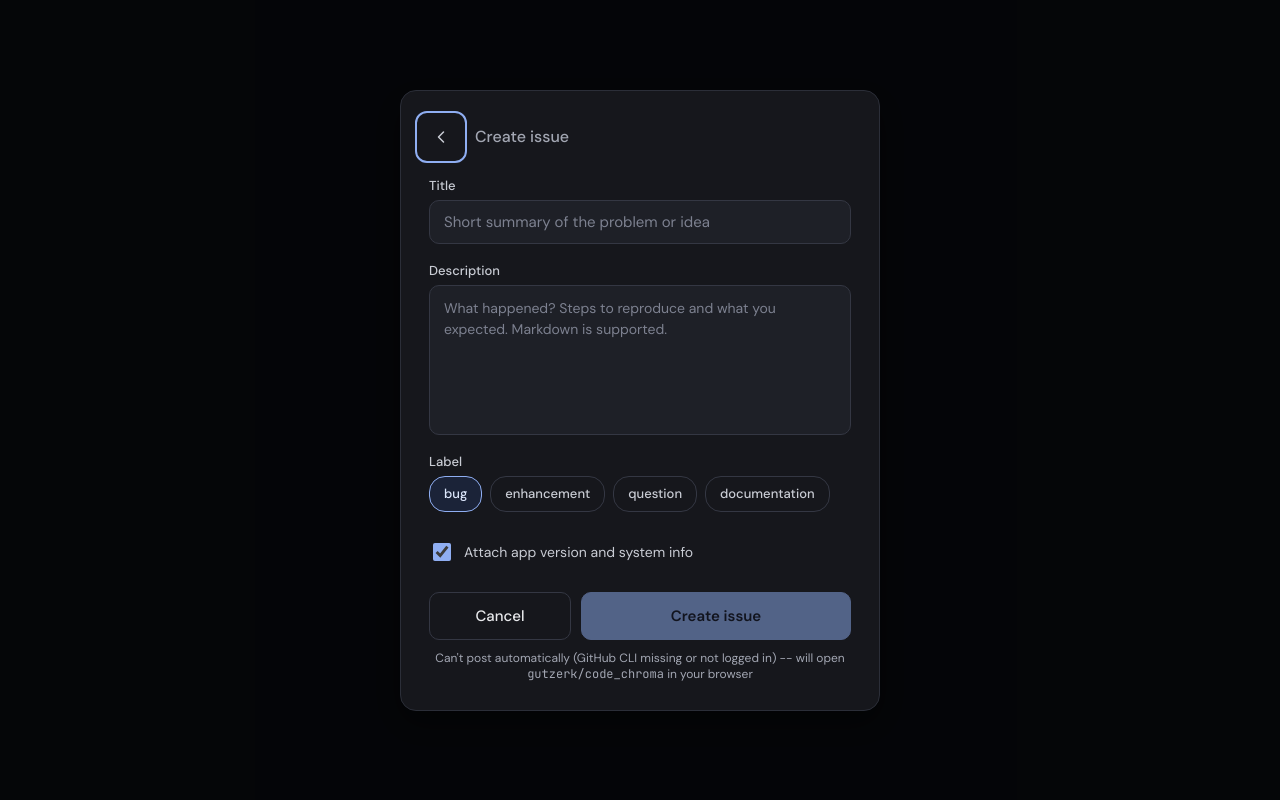
Test case: CreateIssueDialog › disables Create issue until a title is entered
Check: the button "Create issue" is disabled, box [581, 592, 851, 640]
Type "Canvas freezes on zoom" into the field labelled "Title". click: point(640, 222)
box: [429, 200, 851, 244]
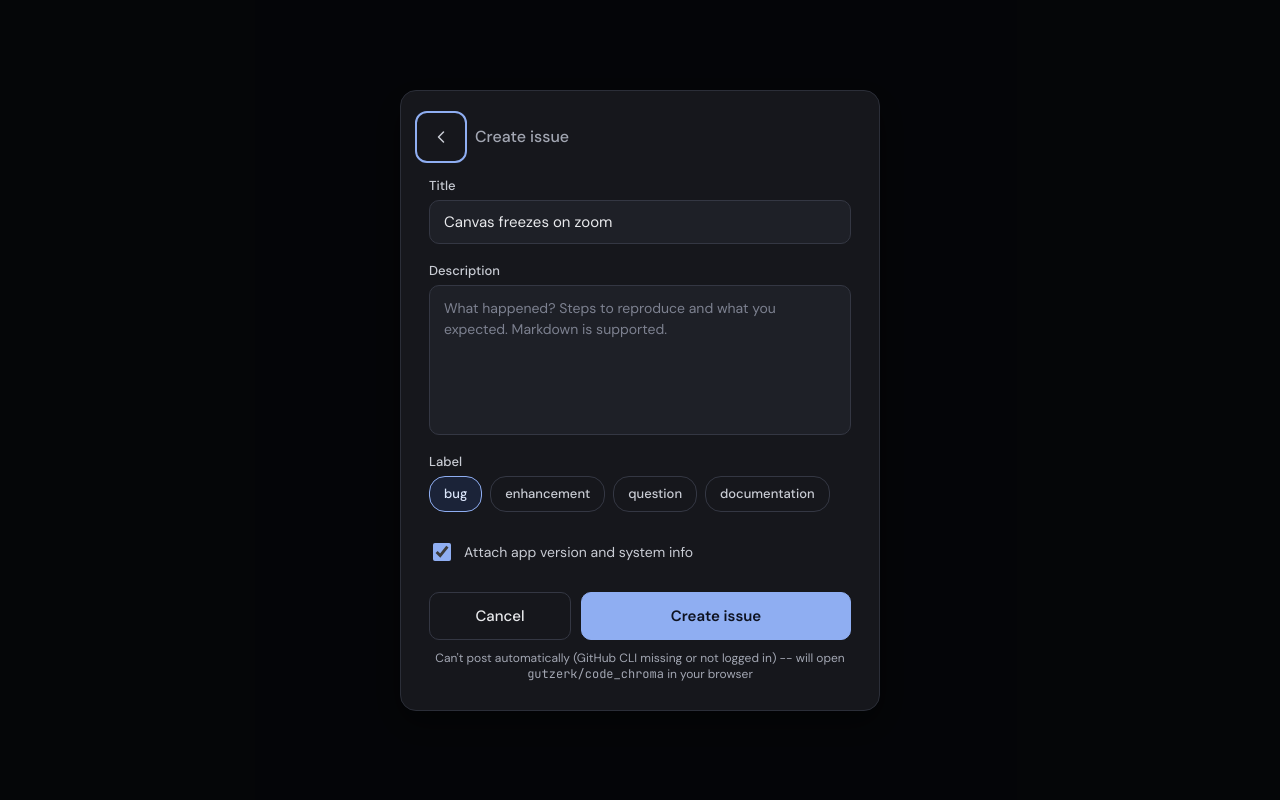
Check: the button "Create issue" is enabled, box [581, 592, 851, 640]
